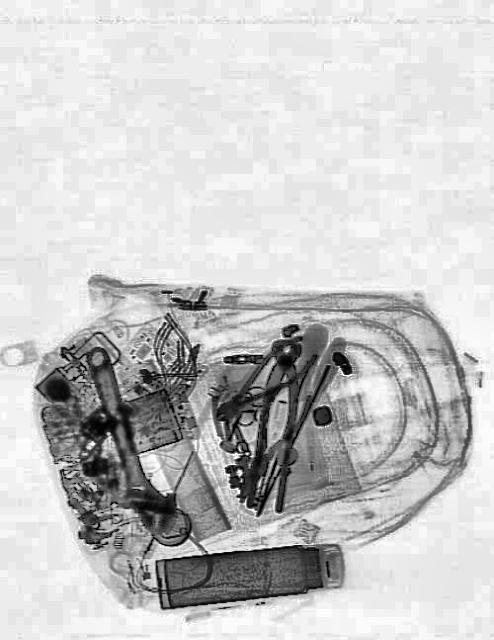Pliers: (204, 325, 322, 439), (243, 335, 310, 515)
Wrench: (67, 334, 181, 548)
